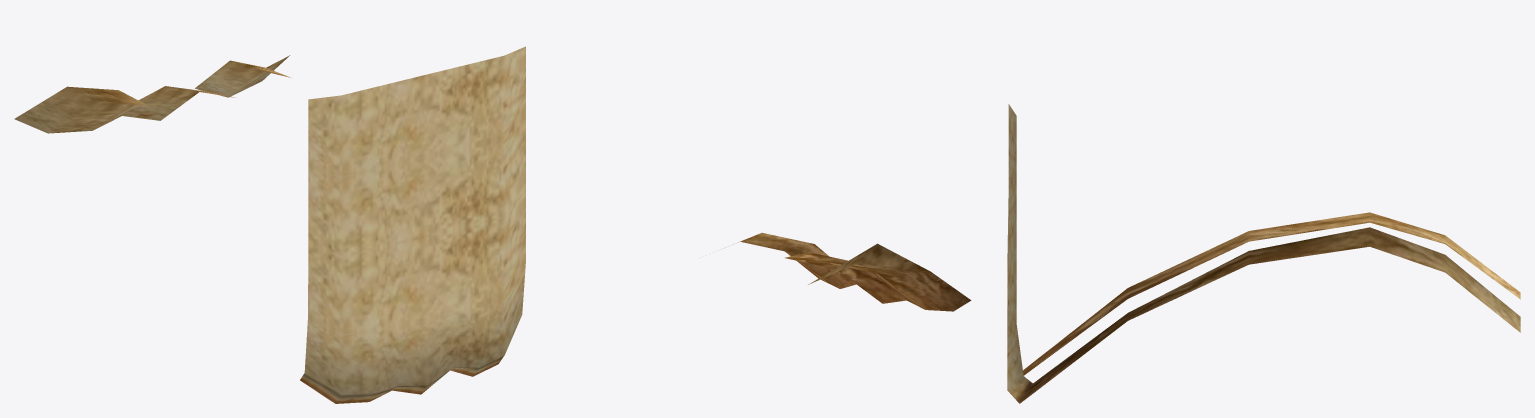
3 views of the same model, side by side, from view 1: azimuth 30°, elevation 25°; view 2: azimuth 150°, elevation 25°; view 3: azimuth 270°, elevation 25° (orthographic). The views are drawn at different scales.
Visible parts, largest first — view 1: model_Object06; view 2: model_Object06; view 3: model_Object06.
Part boxes in pixels (left/top/right/bottom): model_Object06: left=14, top=46, right=525, bottom=403; model_Object06: left=733, top=232, right=971, bottom=311; model_Object06: left=1007, top=104, right=1520, bottom=403.
Size of the model in its own units: 1.55 by 1.7 by 2.54.
Materials: 1 (1 with a texture image).
